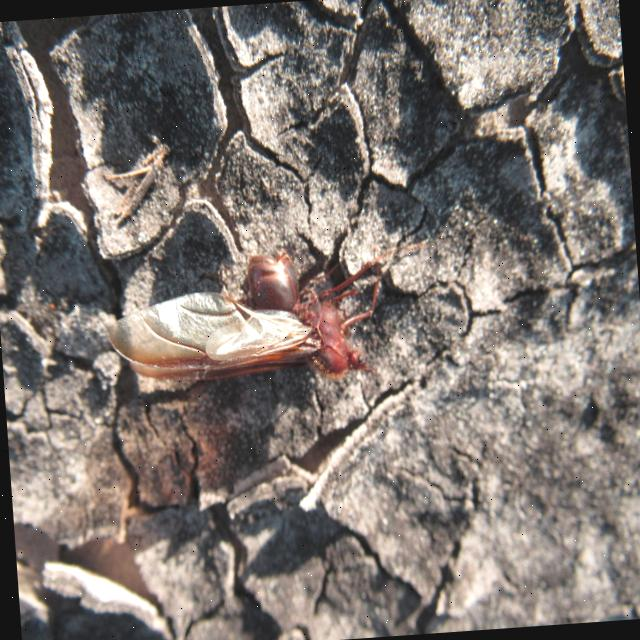Dead-Male-Alate: (102, 235, 435, 398)
